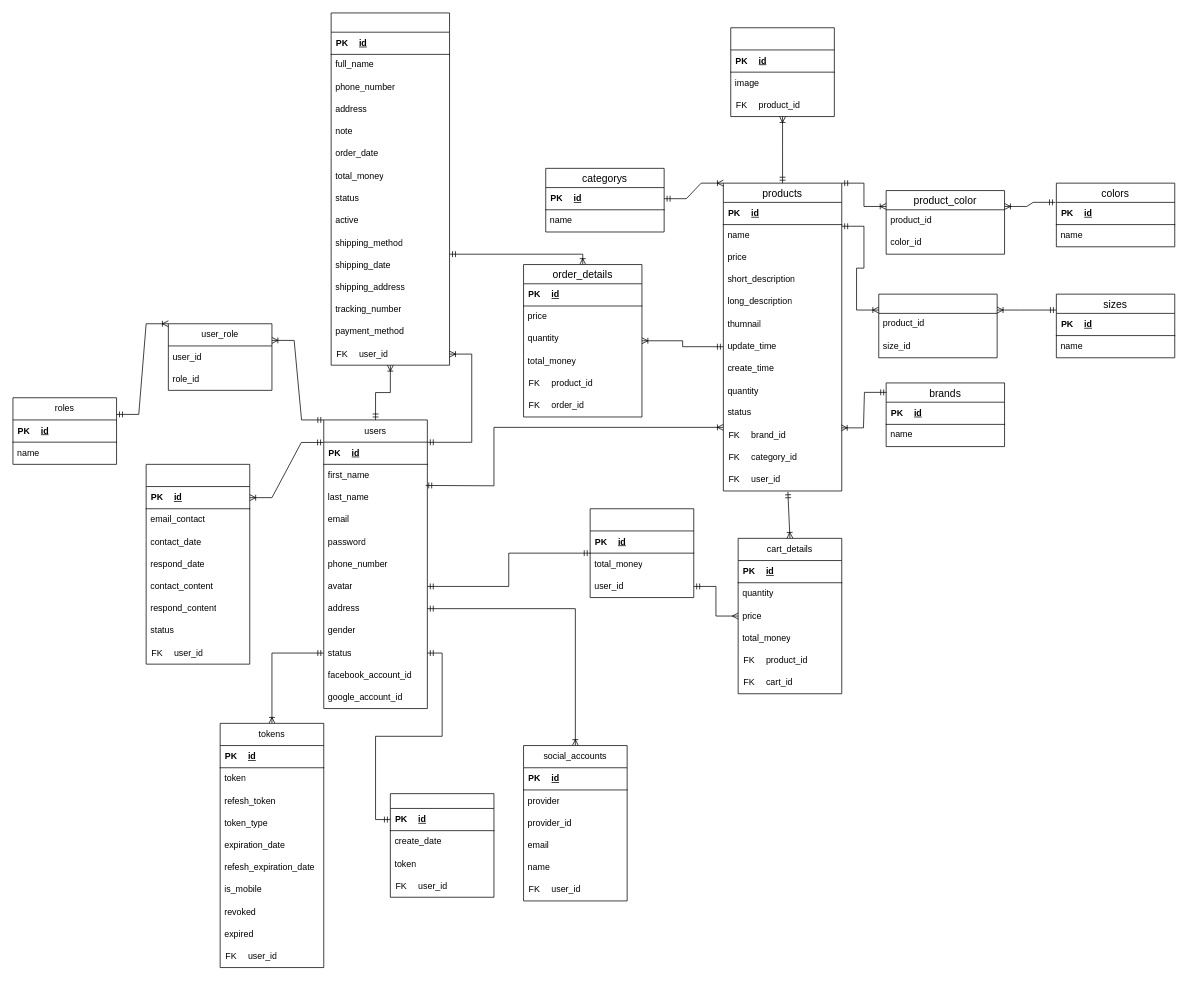
The diagram is 1188 pixels wide and 981 high, and some of its shapes have lost their labels. Here are the shapes that lost their labels. From the top down, the box of each, then its label:
(730, 27, 834, 117): product_images
(330, 12, 450, 365): orders
(878, 293, 997, 358): product_size
(145, 464, 250, 664): contacts
(589, 508, 694, 598): carts
(390, 793, 494, 897): confirmations
